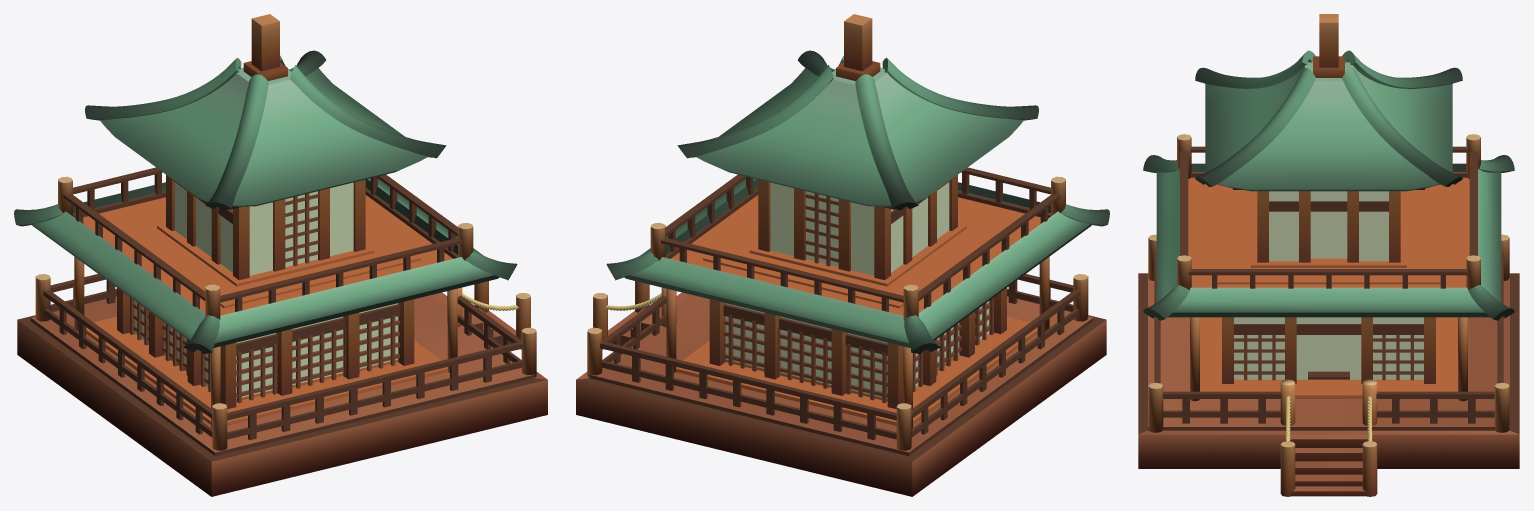
The model's file is templeJapanese_Shrine_Cylinder_006.fbx.
The picture shows the model from 3 angles, left to right: view 1: azimuth 30°, elevation 25°; view 2: azimuth 150°, elevation 25°; view 3: azimuth 270°, elevation 25°; orthographic projection.
Visible parts, largest first — view 1: Japanese_Shrine_Cylinder.006; view 2: Japanese_Shrine_Cylinder.006; view 3: Japanese_Shrine_Cylinder.006.
Boxes of the visible parts, x1,y1,x2,y2 form: Japanese_Shrine_Cylinder.006: (14,14,547,496); Japanese_Shrine_Cylinder.006: (576,14,1109,496); Japanese_Shrine_Cylinder.006: (1138,14,1519,496).
Size of the model in its own units: 2434 by 2097 by 2000.
